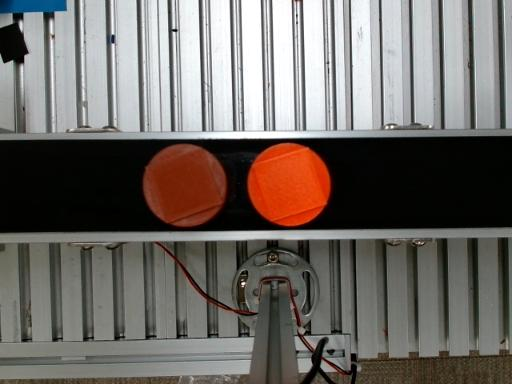Square: (146, 149, 221, 222), (253, 148, 327, 221)
